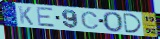9: (61, 9, 79, 29)
C: (80, 11, 101, 30)
D: (122, 13, 144, 34)
E: (36, 7, 57, 28)
K: (18, 5, 35, 27)
O: (102, 12, 124, 34)
